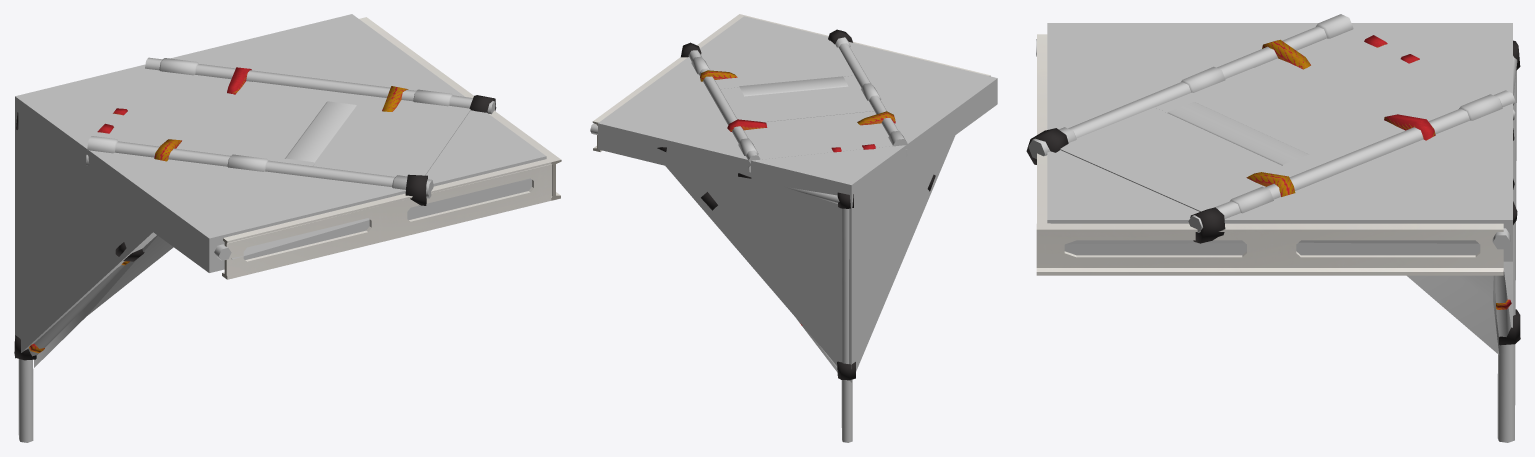
Rendered from builderRoofSlopeCornerIntT03.FBX.
3 views of the same model, side by side, from view 1: azimuth 30°, elevation 25°; view 2: azimuth 150°, elevation 25°; view 3: azimuth 270°, elevation 25° (orthographic). The views are drawn at different scales.
Visible parts, largest first — view 1: builderRoofSlopeCornerIntT03T_COL, builderRoofSlopeCornerIntT03T_LOD0; view 2: builderRoofSlopeCornerIntT03T_COL, builderRoofSlopeCornerIntT03T_LOD0; view 3: builderRoofSlopeCornerIntT03T_LOD0, builderRoofSlopeCornerIntT03T_COL.
Boxes of the visible parts, <box> form: builderRoofSlopeCornerIntT03T_COL: <box>15,14,546,358</box>; builderRoofSlopeCornerIntT03T_LOD0: <box>14,17,561,442</box>; builderRoofSlopeCornerIntT03T_COL: <box>598,16,997,382</box>; builderRoofSlopeCornerIntT03T_LOD0: <box>590,14,990,442</box>; builderRoofSlopeCornerIntT03T_LOD0: <box>1026,14,1520,442</box>; builderRoofSlopeCornerIntT03T_COL: <box>1047,23,1512,327</box>.
Size of what is drawn, in the model's own units: 3.28 by 3.13 by 3.3.
